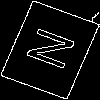N: (25, 25, 87, 77)
